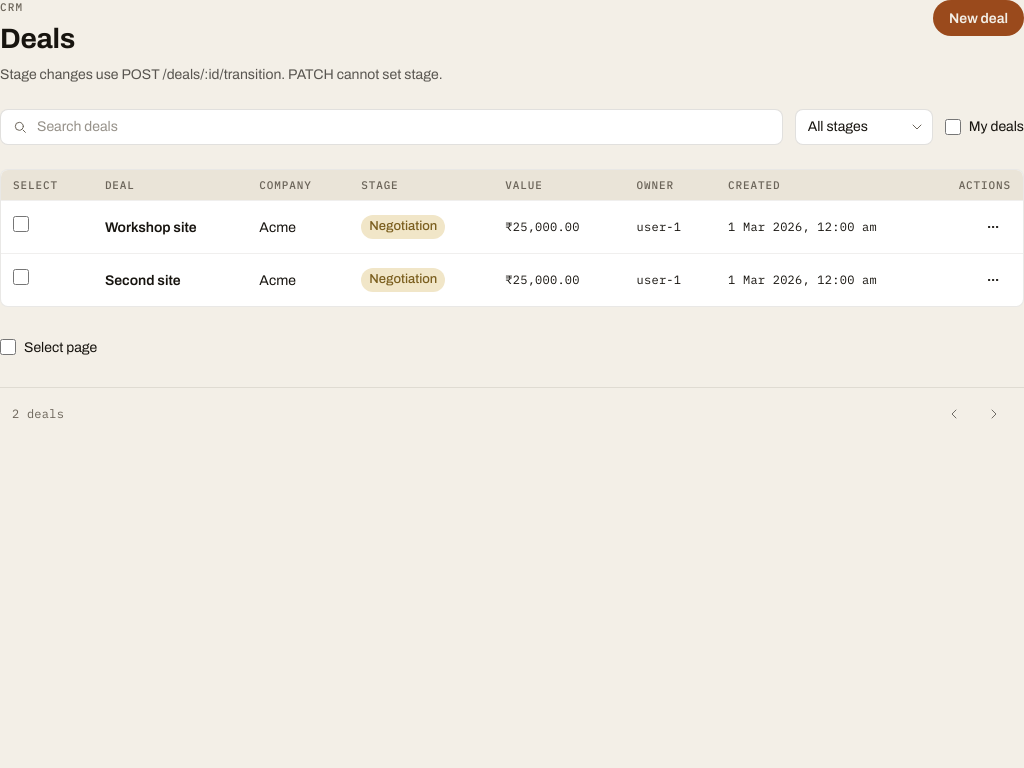
Test case: Deals list › surfaces bulk-reassign API failures without clearing selection
Check: the link "Workshop site" is shown, box [105, 220, 197, 235]
Click the checkbox named "Select Workshop site" at (21, 224), box [13, 216, 29, 232]
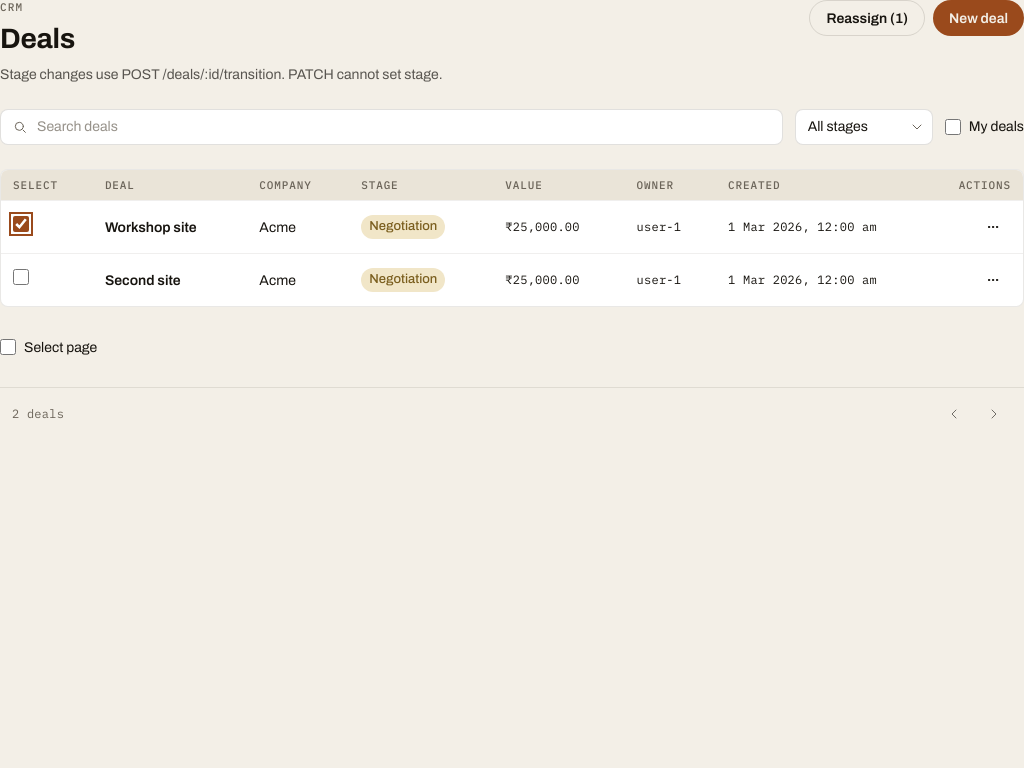
Click the checkbox named "Select Second site" at (21, 277), box [13, 269, 29, 285]
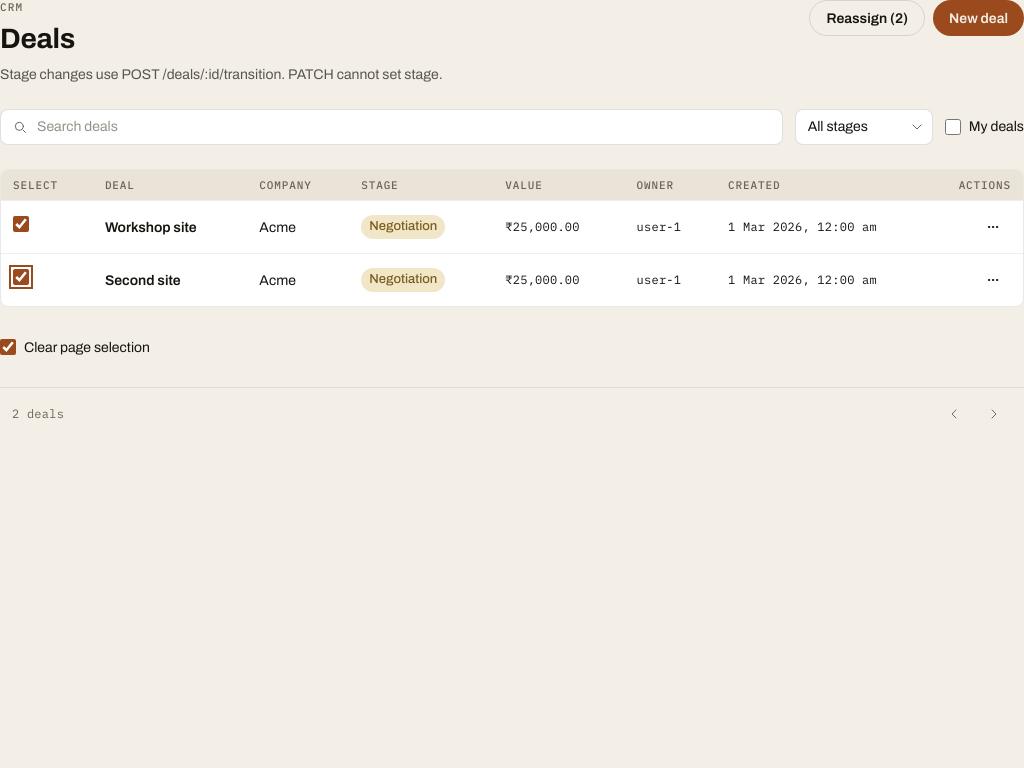
Click the button "Reassign (2)" at (867, 18), box [810, 0, 925, 36]
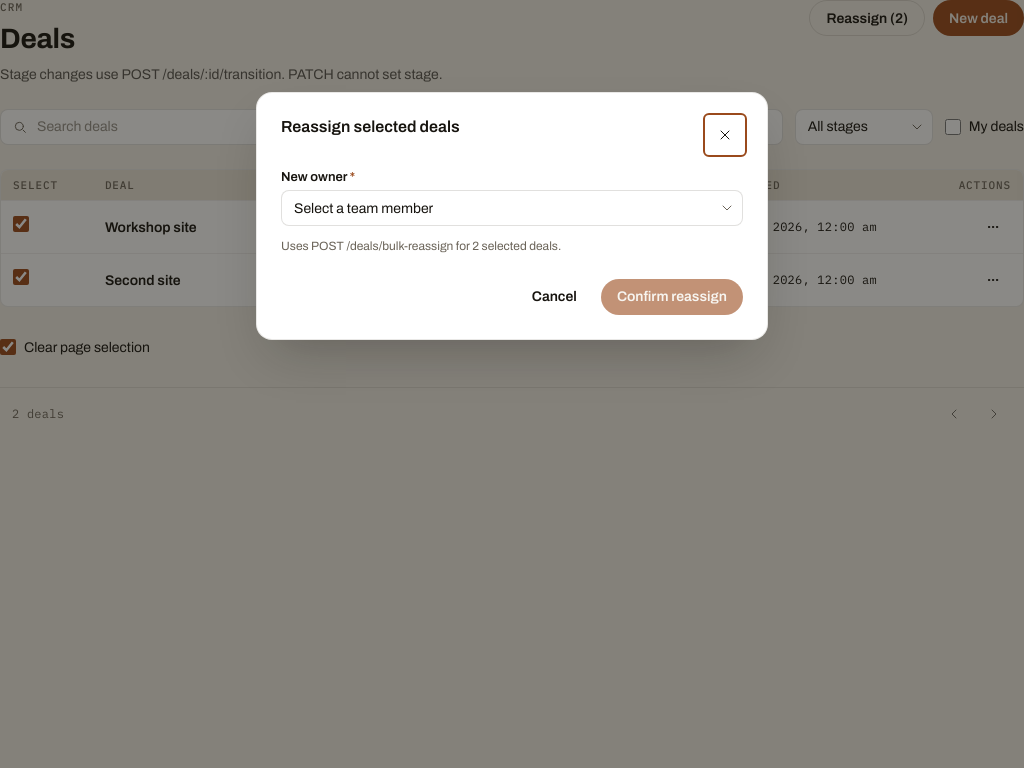
Select "Owner Two" in the dropdown labelled "New owner *" at (512, 208), box [281, 190, 743, 226]
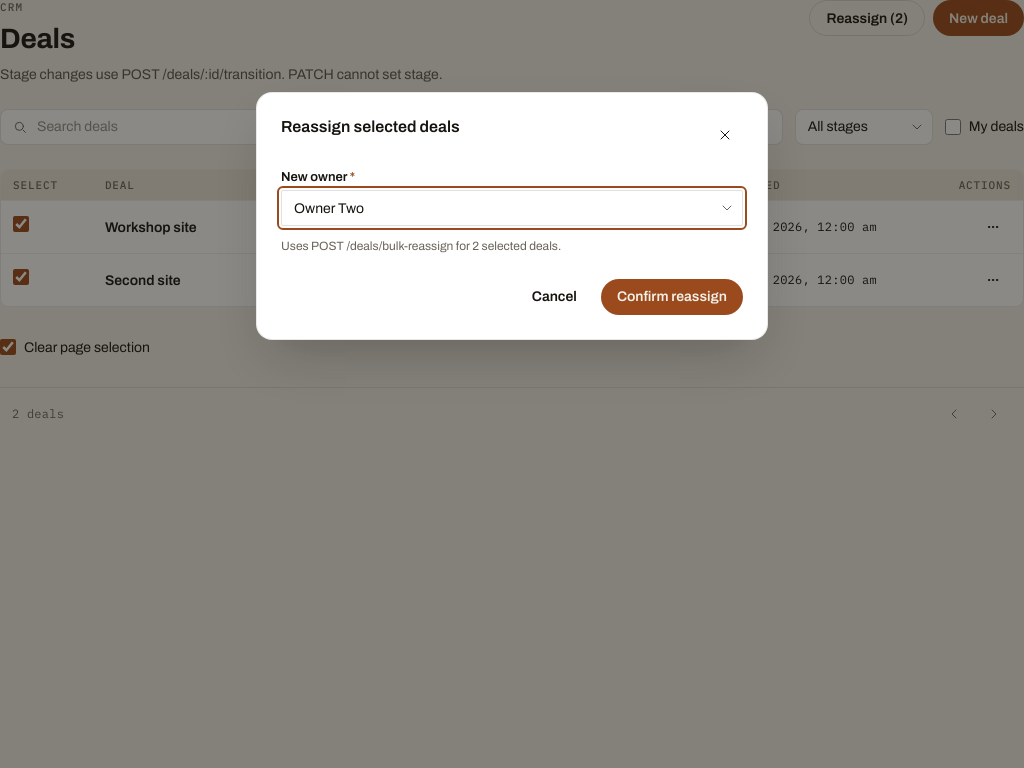
Click the button "Confirm reassign" at (672, 297), box [601, 279, 743, 315]
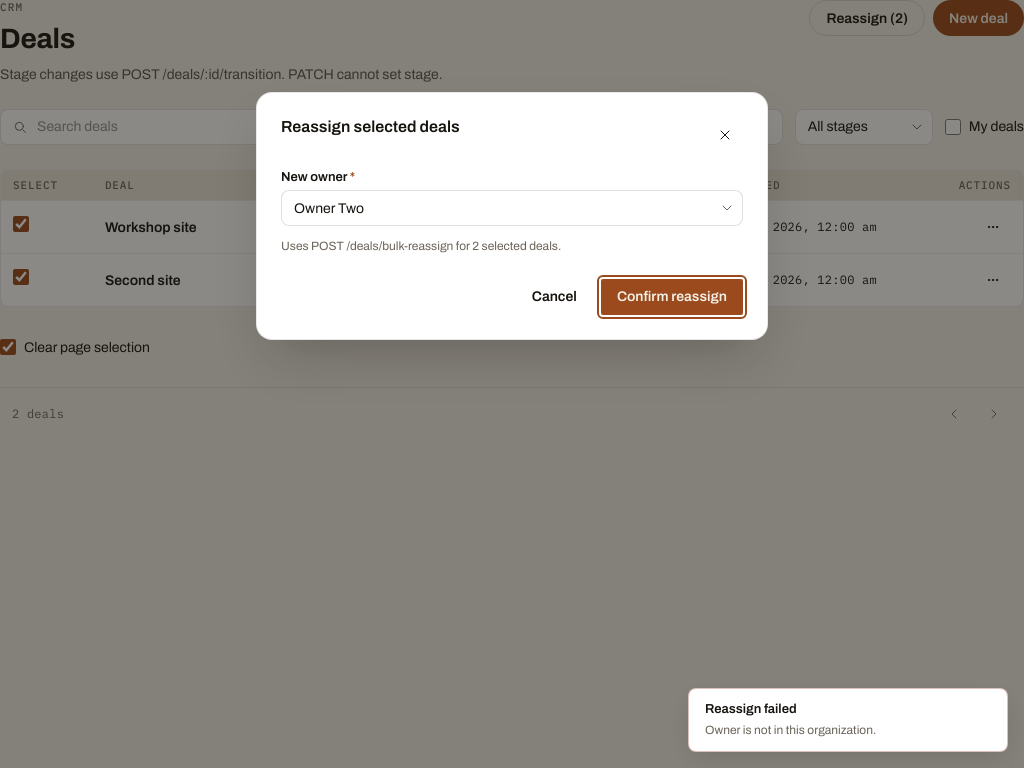
Check: the button "Reassign (2)" is shown, box [810, 0, 925, 36]
Check: the text "Reassign failed" is shown, box [705, 702, 797, 716]
